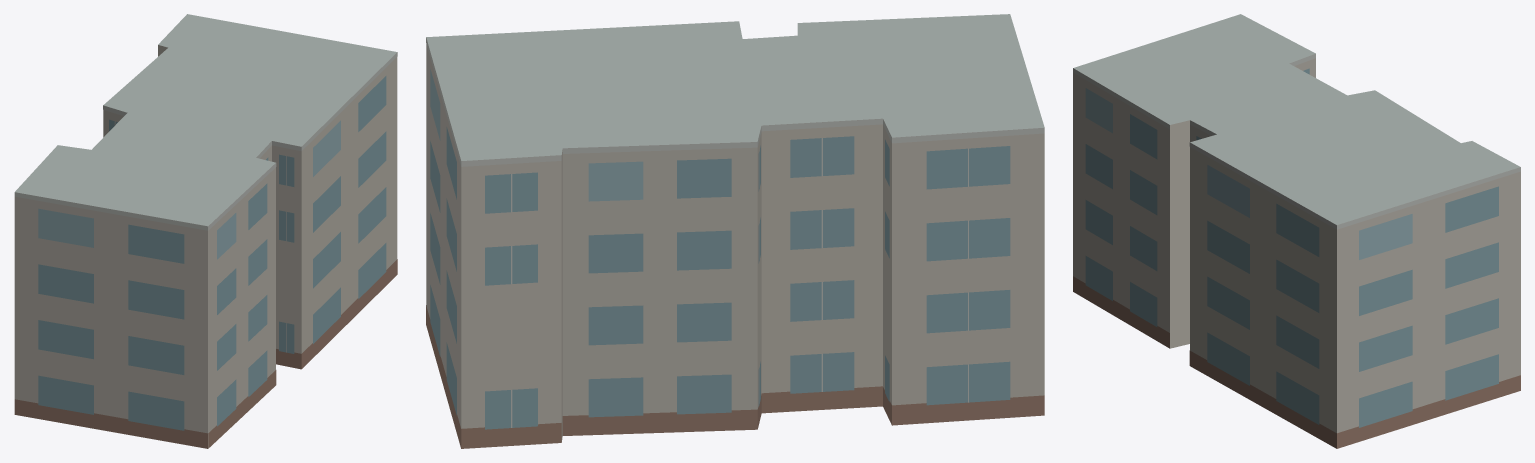
Rendered from survey-upis-32594843.glb.
3 renders of one model, left to right at view 1: azimuth 30°, elevation 25°; view 2: azimuth 150°, elevation 25°; view 3: azimuth 270°, elevation 25°, orthographic. The views are drawn at different scales.
Parts seen in each view (by area): view 1: survey-upis-32594843.tmp; view 2: survey-upis-32594843.tmp; view 3: survey-upis-32594843.tmp.
Boxes of the visible parts, left/top/right/bottom form: survey-upis-32594843.tmp: left=14, top=14, right=397, bottom=448; survey-upis-32594843.tmp: left=426, top=14, right=1044, bottom=448; survey-upis-32594843.tmp: left=1073, top=14, right=1520, bottom=448.
Bounding box in the file's own units: 24.71 × 12.2 × 22.14.
